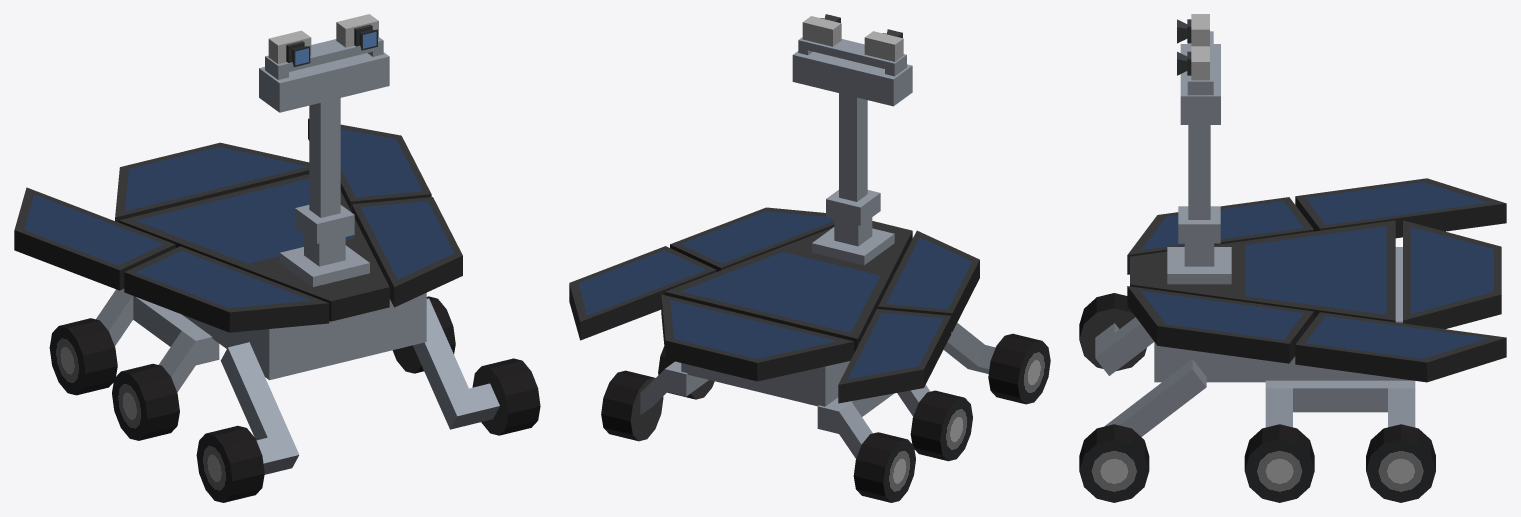
File: SM_Veh_Rover_02.fbx
The picture shows the model from 3 angles, left to right: view 1: azimuth 30°, elevation 25°; view 2: azimuth 150°, elevation 25°; view 3: azimuth 270°, elevation 25°; orthographic projection. The views are drawn at different scales.
Visible parts, largest first — view 1: SM_Veh_Rover_02; view 2: SM_Veh_Rover_02; view 3: SM_Veh_Rover_02.
Part boxes in pixels (x1,y1,x2,y2): SM_Veh_Rover_02: (14, 14, 540, 502); SM_Veh_Rover_02: (569, 14, 1050, 502); SM_Veh_Rover_02: (1079, 14, 1506, 502).
Size of the model in its own units: 2.69 by 2.66 by 2.63.
